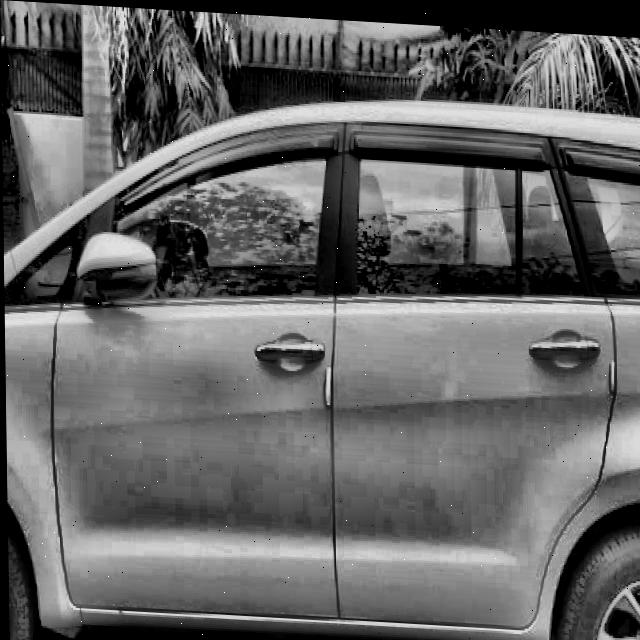light_vehicle: (1, 68, 640, 640)
